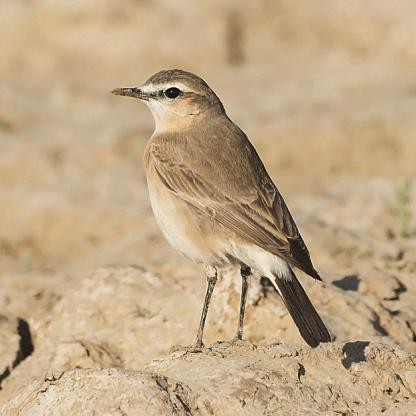Burung: (107, 69, 336, 349)
